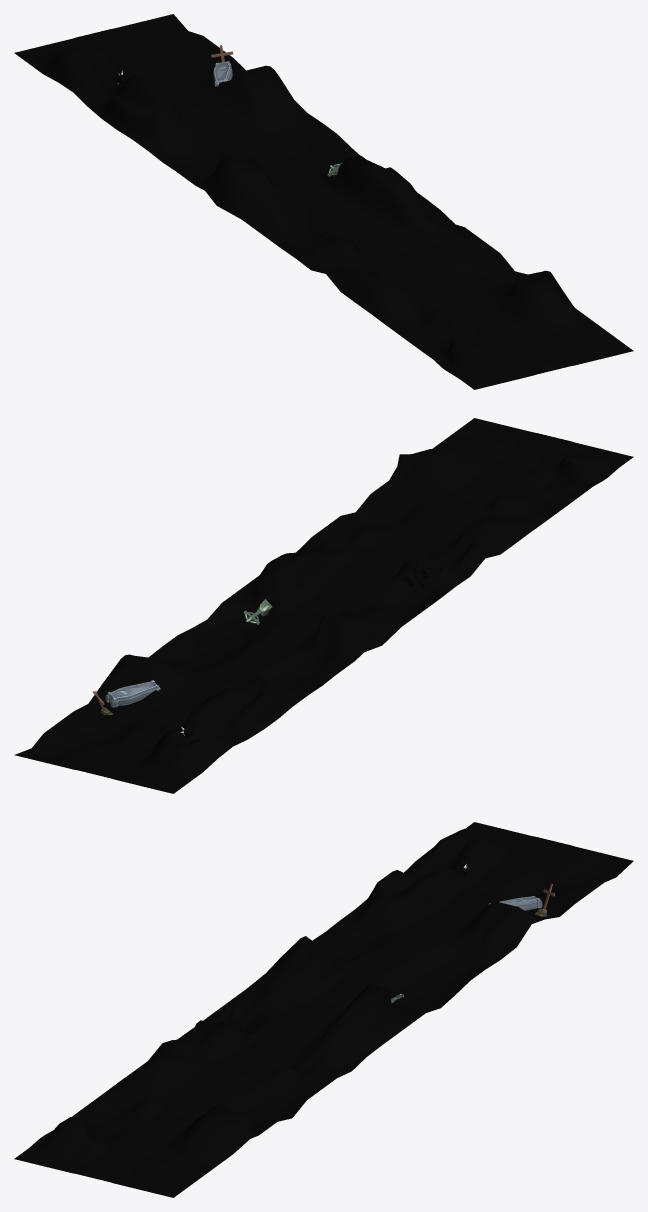
The model's file is ChunkC1.fbx.
3 renders of one model, top to bottom at view 1: azimuth 30°, elevation 25°; view 2: azimuth 150°, elevation 25°; view 3: azimuth 330°, elevation 25°, orthographic.
Visible parts, largest first — view 1: ChunkC1; view 2: ChunkC1; view 3: ChunkC1.
Boxes of the visible parts, bbox=[...] form: ChunkC1: bbox=[14, 14, 633, 389]; ChunkC1: bbox=[14, 418, 633, 793]; ChunkC1: bbox=[14, 822, 633, 1197].
Size of the model in its own units: 4149 by 977 by 20000.
